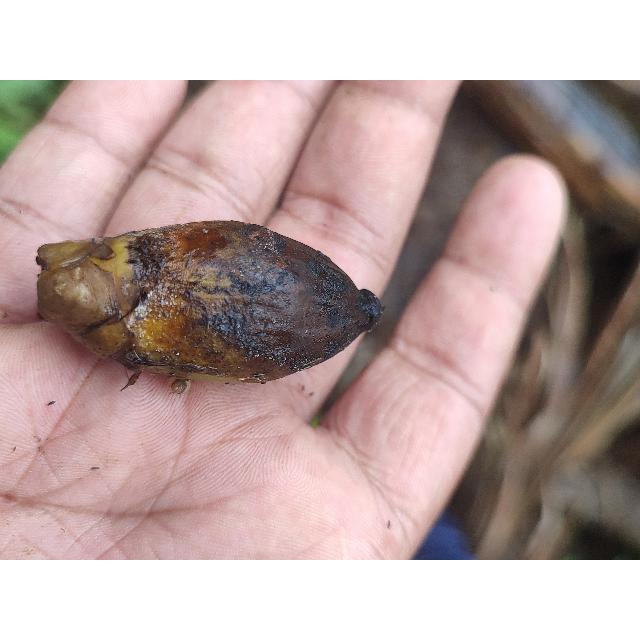damaged: (36, 221, 383, 391)
